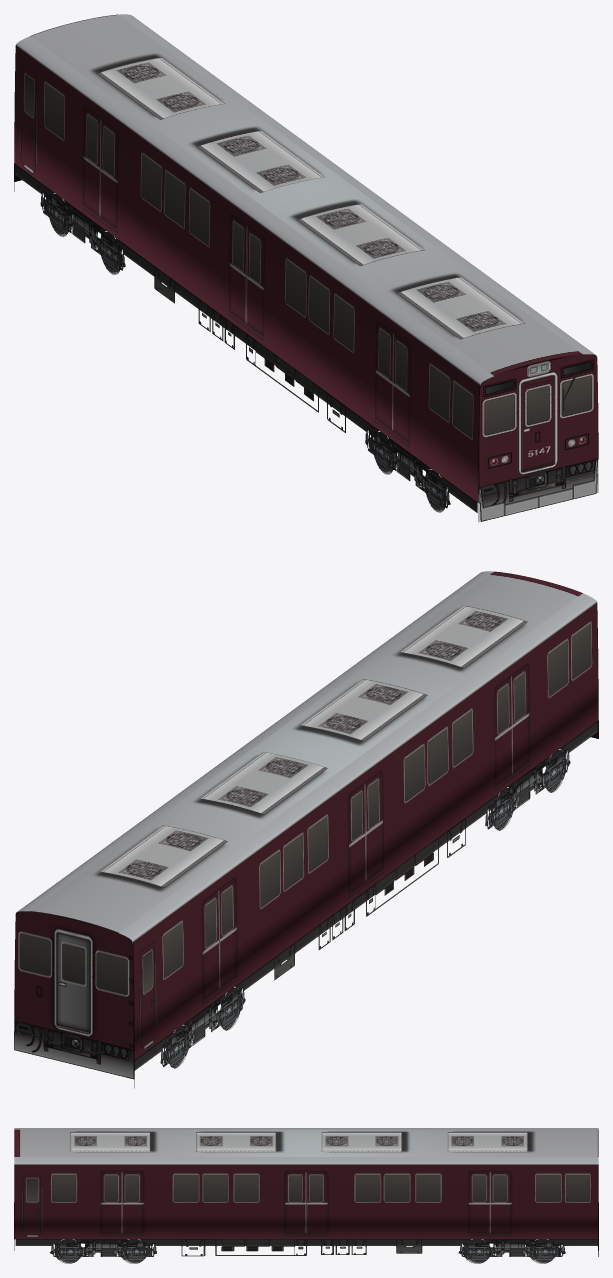
Rendered from car1.glb.
The picture shows the model from 3 angles, top to bottom: view 1: azimuth 30°, elevation 25°; view 2: azimuth 150°, elevation 25°; view 3: azimuth 270°, elevation 25°; orthographic projection. The views are drawn at different scales.
Parts seen in each view (by area): view 1: noseden5100-car1; view 2: noseden5100-car1; view 3: noseden5100-car1.
Part boxes in pixels (bbox=[...]): noseden5100-car1: bbox=[14, 14, 598, 522]; noseden5100-car1: bbox=[14, 571, 598, 1088]; noseden5100-car1: bbox=[14, 1128, 598, 1263].
Bounding box in the file's own units: 2.75 × 3.63 × 18.47.
7 materials, 6 textured.
